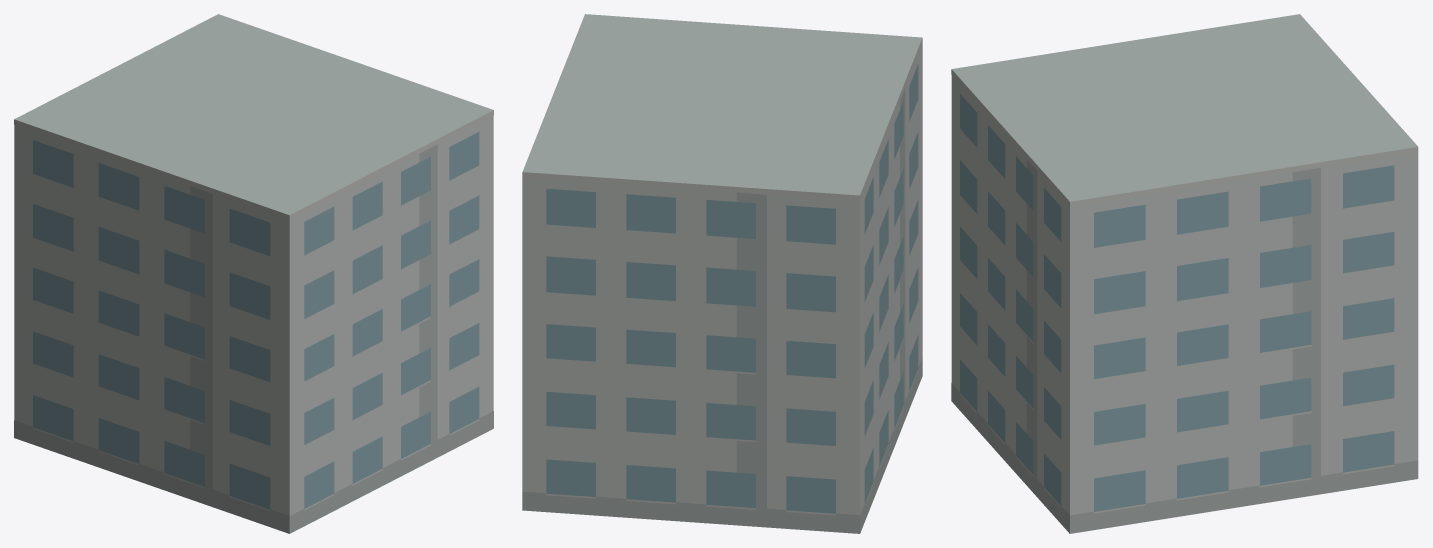
File: survey-upis-33033497.glb
3 views of the same model, side by side, from view 1: azimuth 30°, elevation 25°; view 2: azimuth 150°, elevation 25°; view 3: azimuth 270°, elevation 25° (orthographic). The views are drawn at different scales.
Visible parts, largest first — view 1: survey-upis-33033497.tmp; view 2: survey-upis-33033497.tmp; view 3: survey-upis-33033497.tmp.
Boxes of the visible parts, <box> form: survey-upis-33033497.tmp: <box>14,14,493,533</box>; survey-upis-33033497.tmp: <box>522,14,922,533</box>; survey-upis-33033497.tmp: <box>951,14,1418,533</box>.
Size of the model in its own units: 17.6 by 14.5 by 18.49.
